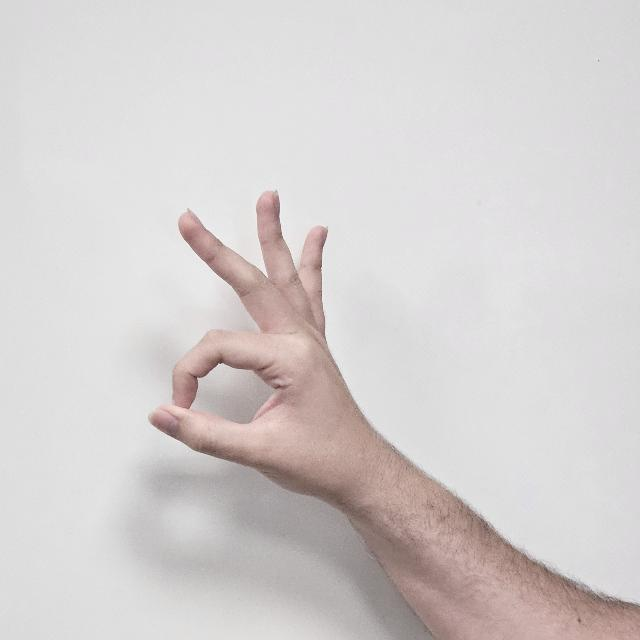Bolinha: (156, 147, 372, 521)
